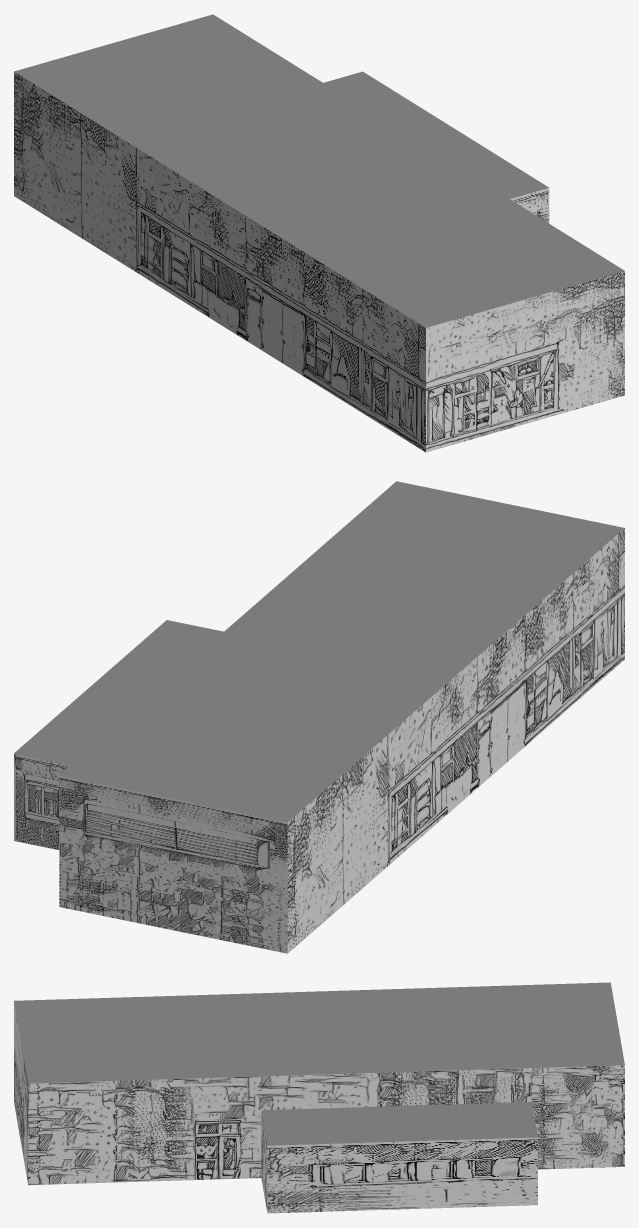
Rendered from Textilmaschinenhalle.gltf.
3 renders of one model, top to bottom at view 1: azimuth 30°, elevation 25°; view 2: azimuth 150°, elevation 25°; view 3: azimuth 270°, elevation 25°, orthographic. The views are drawn at different scales.
Visible parts, largest first — view 1: Dach.1; view 2: Dach.1; view 3: Dach.1.
Part boxes in pixels (bbox=[...]): Dach.1: bbox=[14, 14, 624, 452]; Dach.1: bbox=[14, 481, 624, 953]; Dach.1: bbox=[14, 982, 624, 1213].
Size of the model in its own units: 16.38 by 6 by 32.68.
9 materials, 8 textured.
